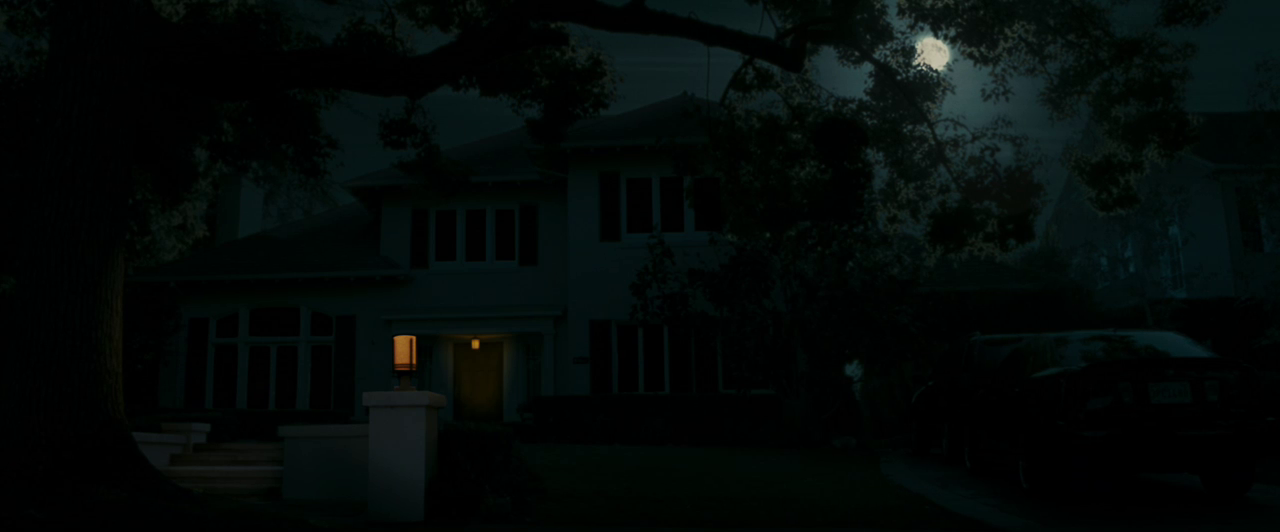car: (902, 318, 1267, 517)
